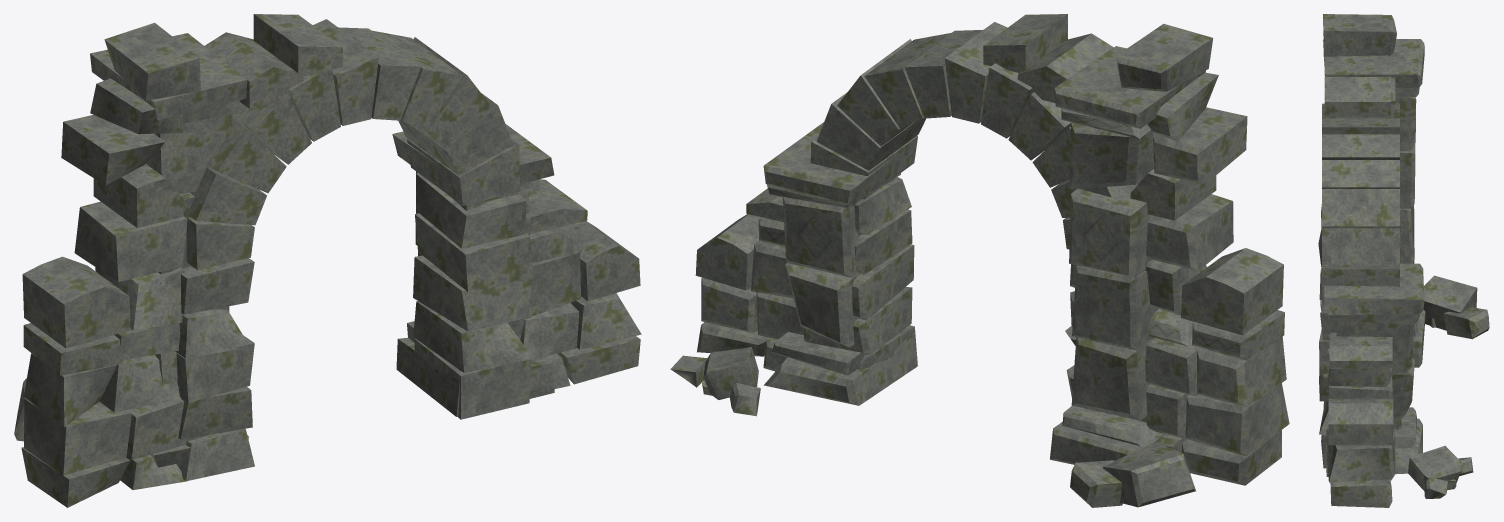
The model's file is B_Ruined_Arch_Gateway.obj.
3 renders of one model, left to right at view 1: azimuth 30°, elevation 25°; view 2: azimuth 150°, elevation 25°; view 3: azimuth 270°, elevation 25°, orthographic. The views are drawn at different scales.
Visible parts, largest first — view 1: B_Ruined_Arch_Gateway_Stone_Slate, B_Ruined_Arch_Gateway_Stone_Pale, B_Ruined_Arch_Gateway_Stone_Warm, B_Ruined_Arch_Gateway_Stone_Shadow; view 2: B_Ruined_Arch_Gateway_Stone_Slate, B_Ruined_Arch_Gateway_Stone_Pale, B_Ruined_Arch_Gateway_Stone_Warm, B_Ruined_Arch_Gateway_Stone_Shadow, B_Ruined_Arch_Gateway_Carved_Diamond, B_Ruined_Arch_Gateway_Carved_Band; view 3: B_Ruined_Arch_Gateway_Stone_Pale, B_Ruined_Arch_Gateway_Stone_Slate, B_Ruined_Arch_Gateway_Stone_Shadow, B_Ruined_Arch_Gateway_Stone_Warm.
Boxes of the visible parts, <box> form: B_Ruined_Arch_Gateway_Stone_Slate: <box>14,19,579,489</box>; B_Ruined_Arch_Gateway_Stone_Pale: <box>21,14,640,507</box>; B_Ruined_Arch_Gateway_Stone_Warm: <box>22,118,570,481</box>; B_Ruined_Arch_Gateway_Stone_Shadow: <box>155,173,641,402</box>; B_Ruined_Arch_Gateway_Stone_Slate: <box>670,22,1289,507</box>; B_Ruined_Arch_Gateway_Stone_Pale: <box>695,14,1286,485</box>; B_Ruined_Arch_Gateway_Stone_Warm: <box>763,126,1283,396</box>; B_Ruined_Arch_Gateway_Stone_Shadow: <box>701,177,1150,420</box>; B_Ruined_Arch_Gateway_Carved_Diamond: <box>785,201,1130,275</box>; B_Ruined_Arch_Gateway_Carved_Band: <box>760,111,1240,356</box>; B_Ruined_Arch_Gateway_Stone_Pale: <box>1320,77,1422,507</box>; B_Ruined_Arch_Gateway_Stone_Slate: <box>1318,14,1489,498</box>; B_Ruined_Arch_Gateway_Stone_Shadow: <box>1319,260,1414,482</box>; B_Ruined_Arch_Gateway_Stone_Warm: <box>1321,204,1417,480</box>.
Size of the model in its own units: 4.67 by 3.28 by 1.6.
Materials: 6 (6 with a texture image).
